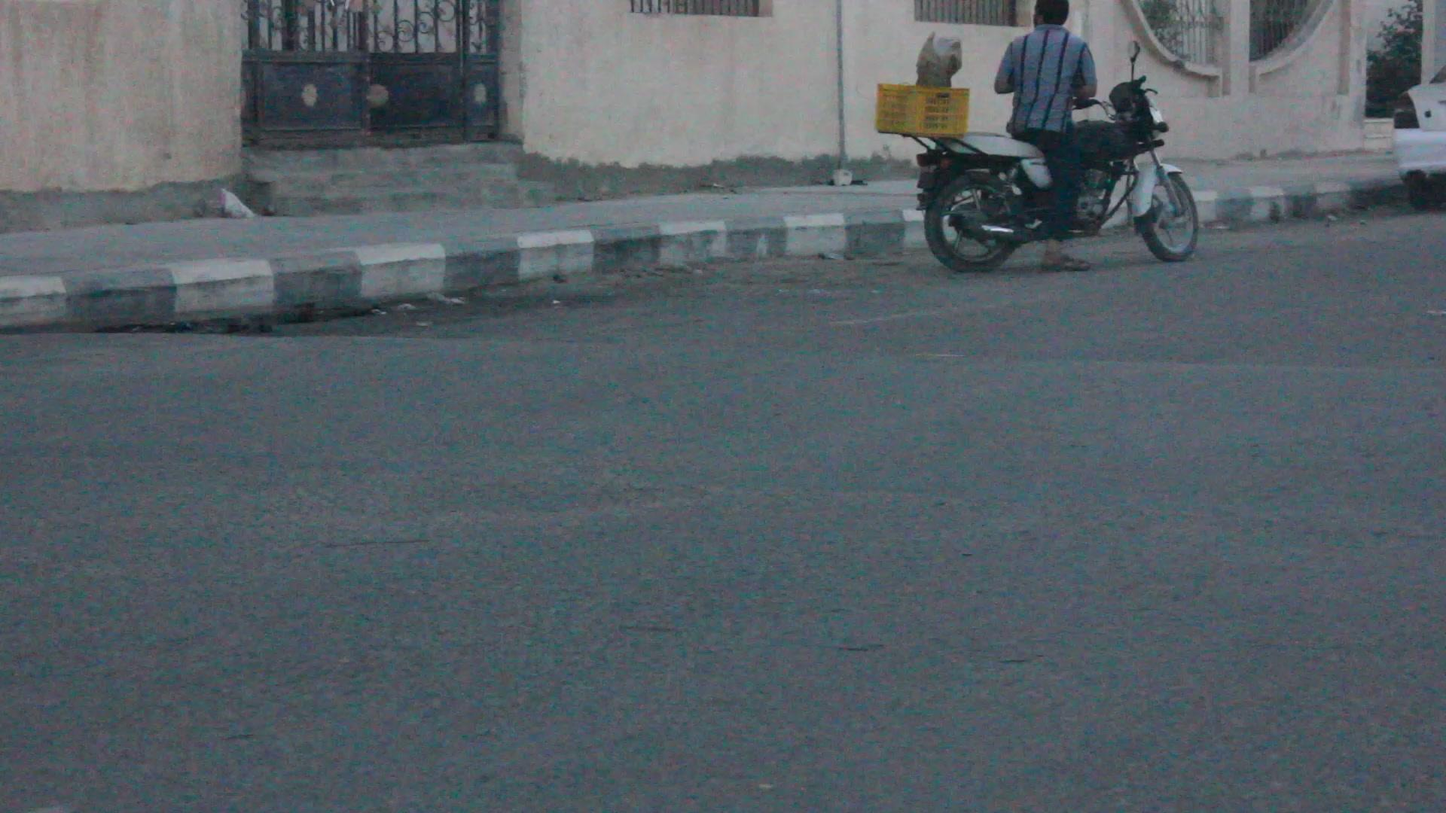Bump: (0, 316, 1444, 529)
